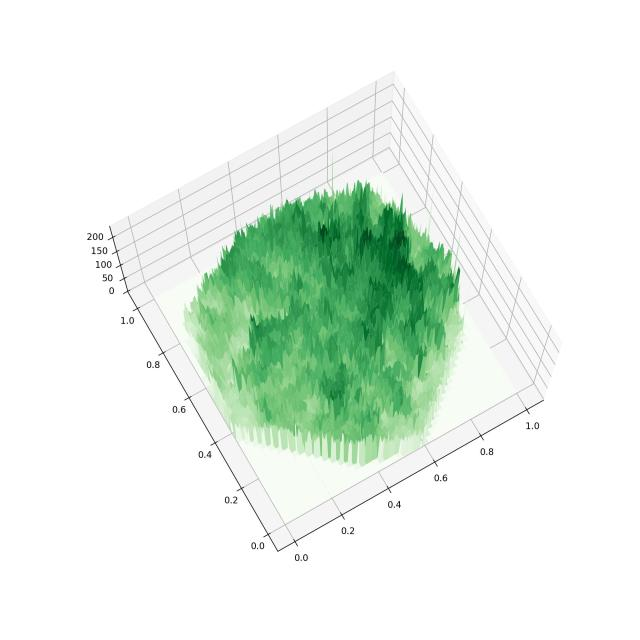fir: (53, 42, 604, 604)
